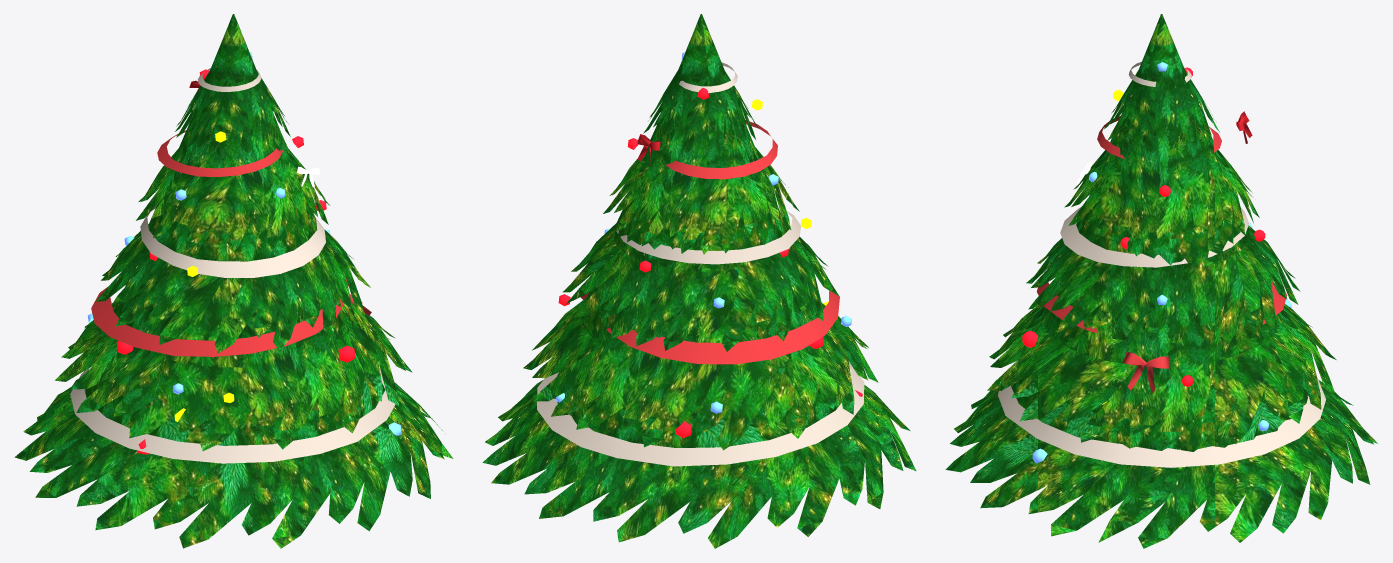
3 views of the same model, side by side, from view 1: azimuth 30°, elevation 25°; view 2: azimuth 150°, elevation 25°; view 3: azimuth 270°, elevation 25° (orthographic).
Visible parts, largest first — view 1: Cone, Cylinder.005, Cylinder.004, Icosphere.030, Icosphere.032; view 2: Cone, Cylinder.005, Cylinder.004, Icosphere.030, Icosphere.032; view 3: Cone, Cylinder.005, Cylinder.004, Icosphere.030, Icosphere.032.
Boxes of the visible parts, x1,y1,x2,y2 form: Cone: (14, 14, 453, 548); Cylinder.005: (70, 68, 395, 463); Cylinder.004: (91, 130, 371, 356); Icosphere.030: (116, 69, 355, 454); Icosphere.032: (87, 52, 401, 435); Cone: (482, 14, 916, 548); Cylinder.005: (537, 62, 864, 466); Cylinder.004: (580, 120, 839, 364); Icosphere.030: (558, 88, 862, 437); Icosphere.032: (555, 52, 851, 413); Cone: (945, 14, 1377, 548); Cylinder.005: (998, 61, 1325, 467); Cylinder.004: (1036, 116, 1287, 392); Icosphere.030: (1022, 67, 1265, 386); Icosphere.032: (1032, 62, 1291, 463).
Size of the model in its own units: 57571 by 64447 by 57209.
10 materials, 2 textured.
